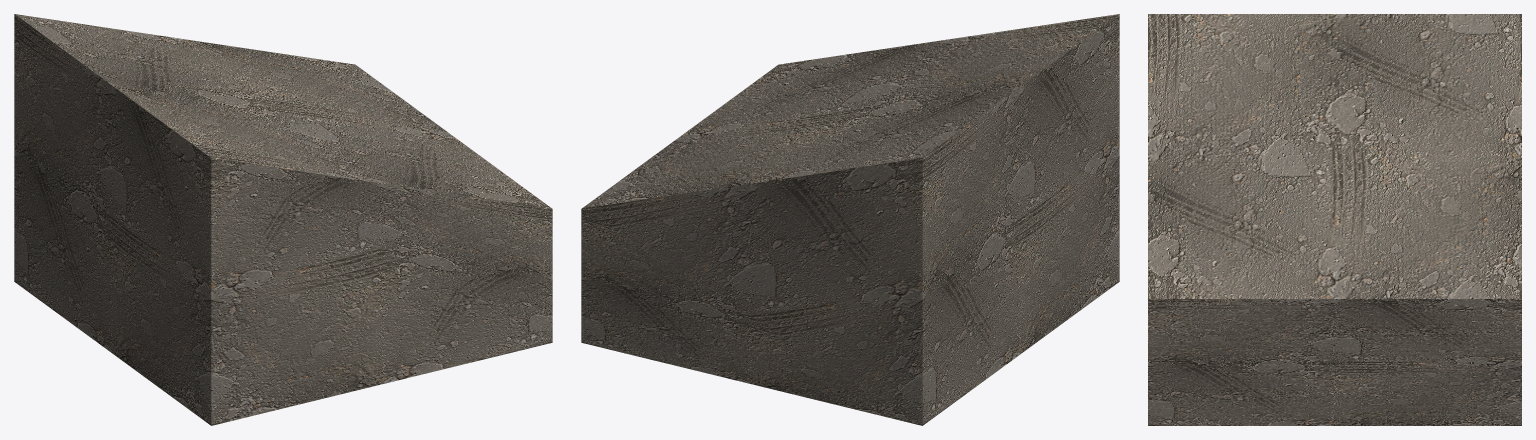
File: asphalt_one_two.glb
The picture shows the model from 3 angles, left to right: view 1: azimuth 30°, elevation 25°; view 2: azimuth 150°, elevation 25°; view 3: azimuth 270°, elevation 25°; orthographic projection. The views are drawn at different scales.
Visible parts, largest first — view 1: Cube.007; view 2: Cube.007; view 3: Cube.007.
Boxes of the visible parts, x1,y1,x2,y2 form: Cube.007: (14,14,552,425); Cube.007: (581,14,1119,425); Cube.007: (1148,14,1521,425).
Bounding box in the file's own units: 2 × 1.5 × 2.
1 material, 1 textured.
